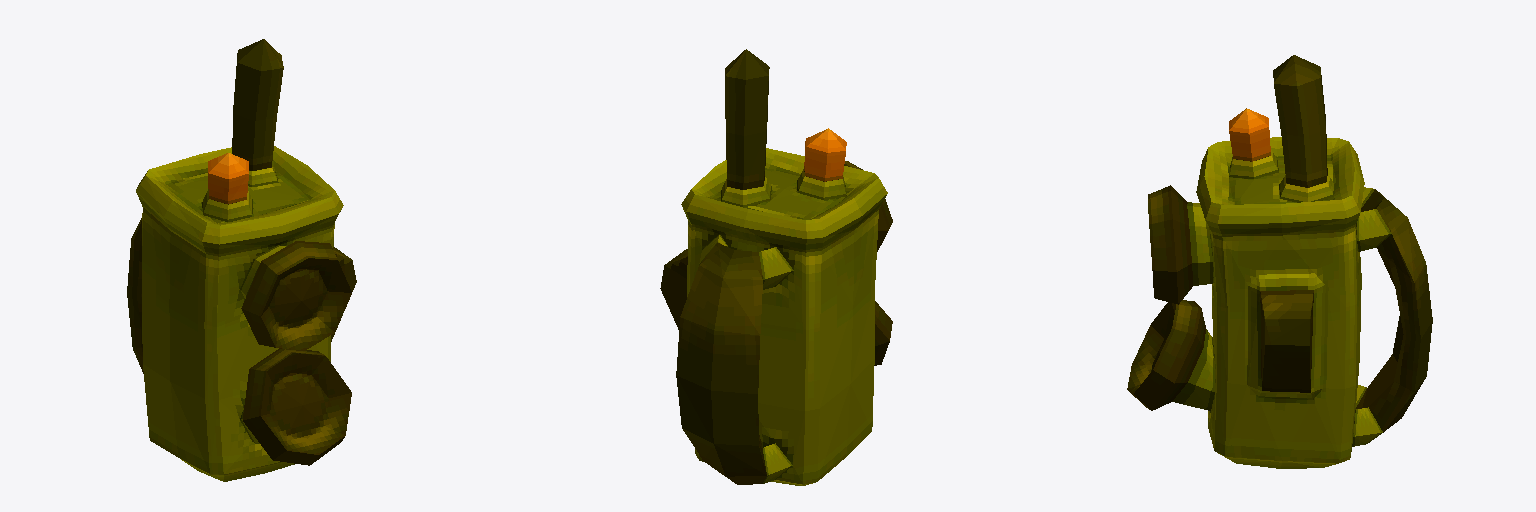
3 renders of one model, left to right at view 1: azimuth 30°, elevation 25°; view 2: azimuth 150°, elevation 25°; view 3: azimuth 270°, elevation 25°, orthographic.
Visible parts, largest first — view 1: Inst3D_RefRep.235; view 2: Inst3D_RefRep.235; view 3: Inst3D_RefRep.235.
Boxes of the visible parts, x1,y1,x2,y2 form: Inst3D_RefRep.235: [127, 39, 356, 481]; Inst3D_RefRep.235: [660, 49, 892, 485]; Inst3D_RefRep.235: [1127, 55, 1432, 468].
Size of the model in its own units: 1.31 by 2.79 by 1.85.
1 materials, 1 textured.